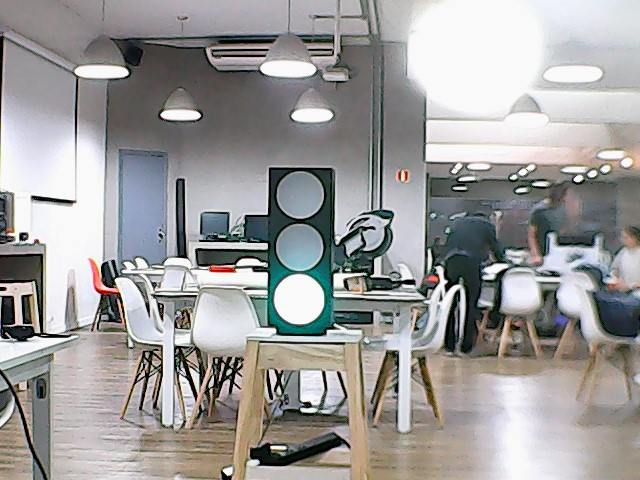verde: (265, 163, 340, 339)
